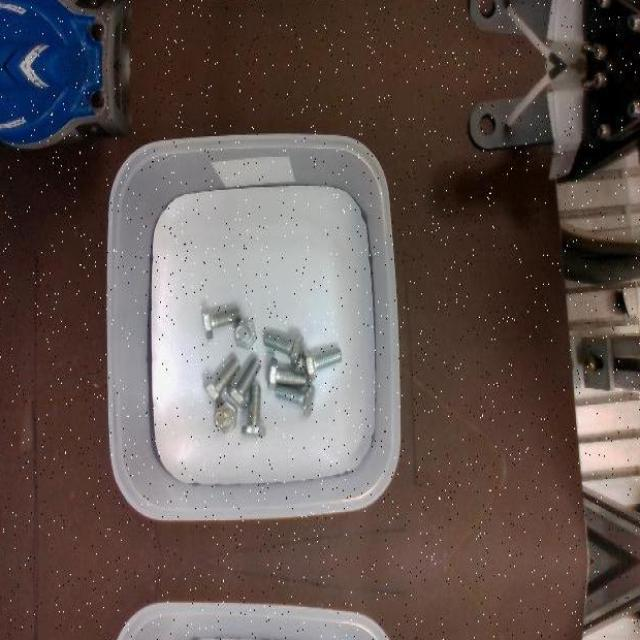screw: (204, 357, 242, 407), (227, 356, 262, 410), (264, 331, 305, 366), (275, 383, 316, 418), (301, 346, 342, 380), (202, 307, 242, 341), (240, 384, 266, 436), (268, 357, 306, 390), (214, 398, 237, 433), (233, 319, 258, 349)
